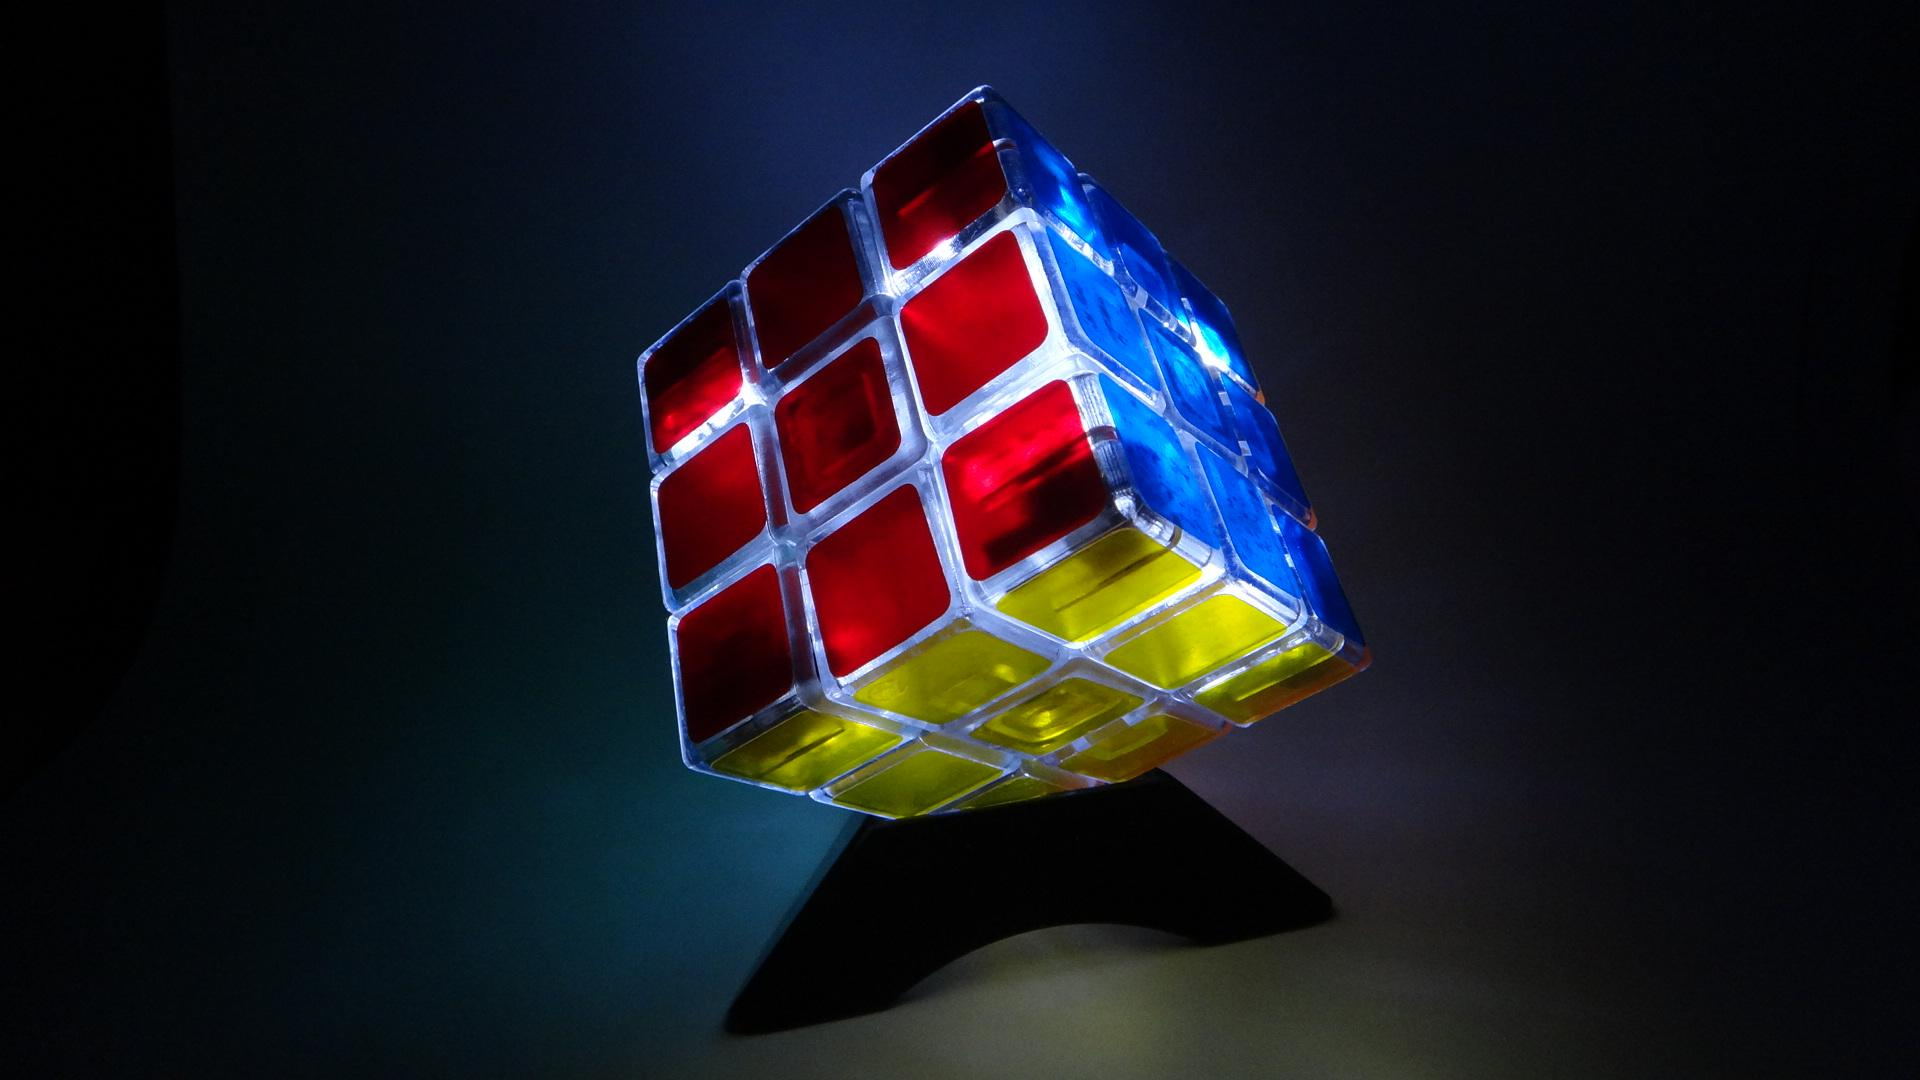cube: (593, 66, 1396, 841)
